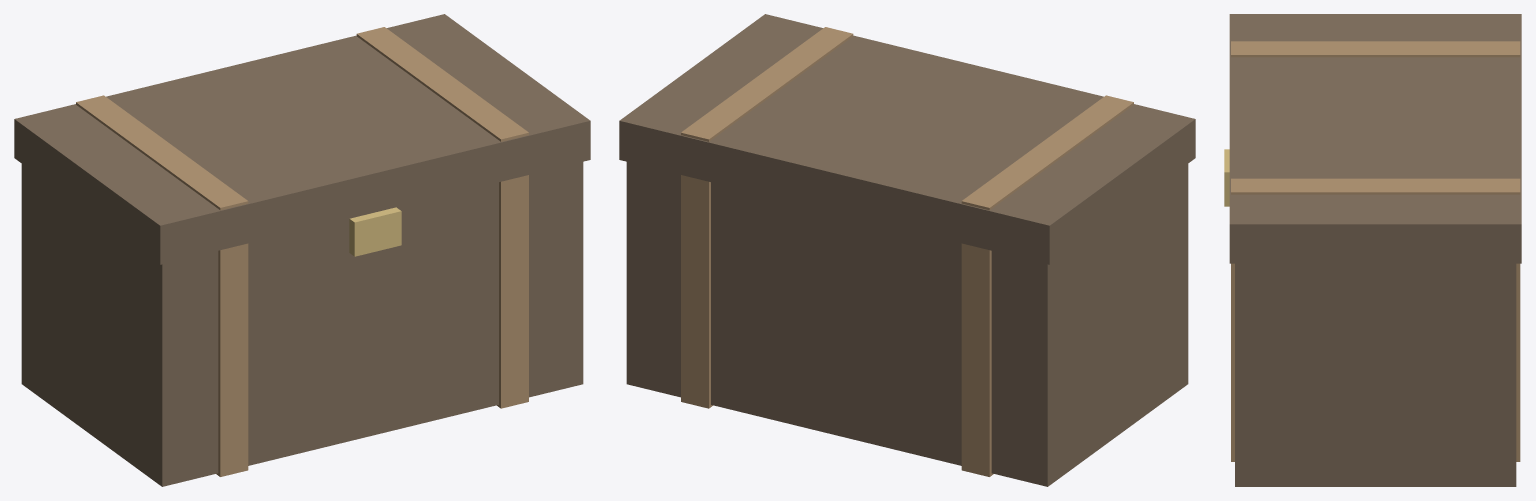
Rendered from example-steamer-trunk.glb.
The picture shows the model from 3 angles, left to right: view 1: azimuth 30°, elevation 25°; view 2: azimuth 150°, elevation 25°; view 3: azimuth 270°, elevation 25°; orthographic projection.
Parts seen in each view (by area): view 1: body, lid, strap-0.3, strap0.3, latch; view 2: body, lid, strap-0.3, strap0.3; view 3: lid, body, strap0.3, strap-0.3, latch.
Boxes of the visible parts, left/top/right/bottom form: body: left=21, top=162, right=583, bottom=486; lid: left=14, top=14, right=590, bottom=264; strap-0.3: left=76, top=95, right=248, bottom=476; strap0.3: left=356, top=27, right=528, bottom=408; latch: left=349, top=207, right=401, bottom=256; body: left=626, top=162, right=1188, bottom=486; lid: left=619, top=14, right=1195, bottom=264; strap-0.3: left=961, top=95, right=1133, bottom=476; strap0.3: left=681, top=27, right=853, bottom=408; lid: left=1229, top=14, right=1521, bottom=263; body: left=1235, top=263, right=1516, bottom=486; strap0.3: left=1231, top=178, right=1520, bottom=461; strap-0.3: left=1231, top=41, right=1520, bottom=57; latch: left=1224, top=149, right=1229, bottom=206.
Bounding box in the file's own units: 0.92 × 0.55 × 0.55.
